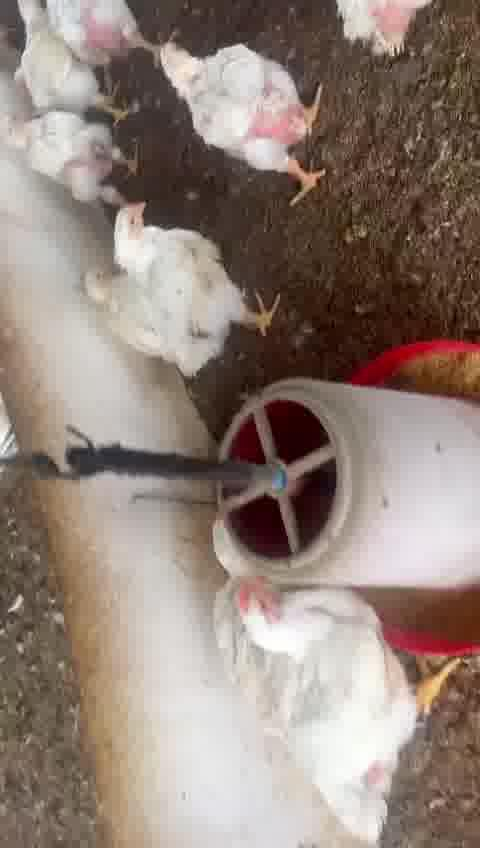Normal: (217, 585, 447, 821), (150, 44, 335, 197), (110, 204, 283, 353)
